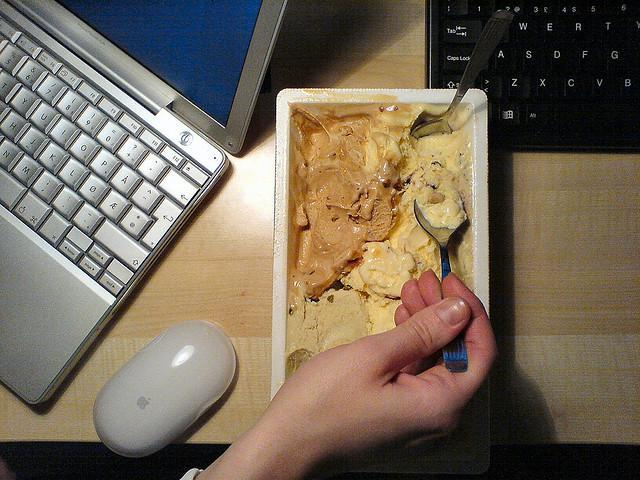hand: (230, 280, 519, 470)
tv: (0, 3, 294, 320)
